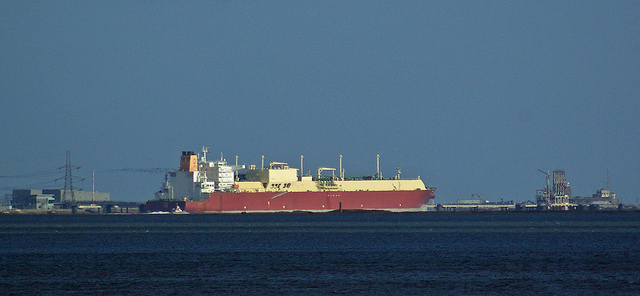LNG_ship: (139, 146, 440, 213)
